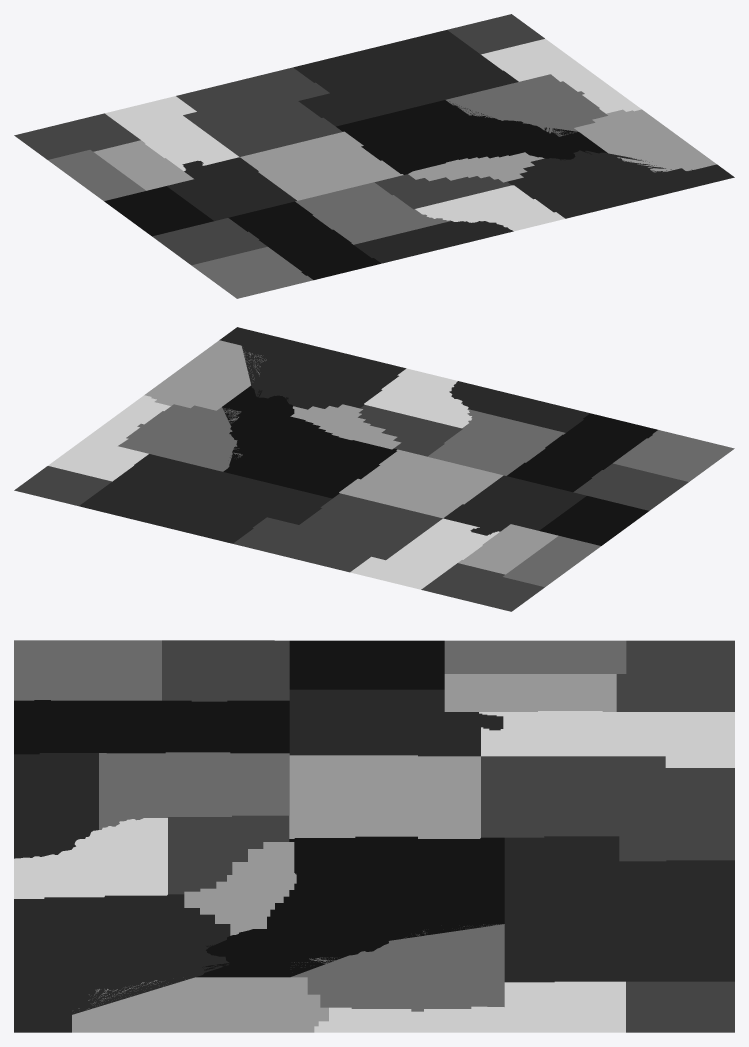
The model's file is Wyoming_Counties_2D.fbx.
The picture shows the model from 3 angles, top to bottom: view 1: azimuth 30°, elevation 25°; view 2: azimuth 150°, elevation 25°; view 3: azimuth 270°, elevation 25°; orthographic projection. The views are drawn at different scales.
Parts seen in each view (by area): view 1: WY_Sweetwater_County_2D, WY_Fremont_County_2D, WY_Carbon_County_2D, WY_Park_County_2D, WY_Natrona_County_2D, WY_Campbell_County_2D, WY_Sublette_County_2D, WY_Johnson_County_2D, WY_Teton_County_2D, WY_Converse_County_2D, WY_Albany_County_2D, WY_Lincoln_County_2D (+11 smaller); view 2: WY_Sweetwater_County_2D, WY_Fremont_County_2D, WY_Carbon_County_2D, WY_Park_County_2D, WY_Natrona_County_2D, WY_Campbell_County_2D, WY_Sublette_County_2D, WY_Johnson_County_2D, WY_Converse_County_2D, WY_Albany_County_2D, WY_Teton_County_2D, WY_Lincoln_County_2D (+11 smaller); view 3: WY_Sweetwater_County_2D, WY_Fremont_County_2D, WY_Carbon_County_2D, WY_Park_County_2D, WY_Natrona_County_2D, WY_Campbell_County_2D, WY_Sublette_County_2D, WY_Johnson_County_2D, WY_Converse_County_2D, WY_Albany_County_2D, WY_Teton_County_2D, WY_Lincoln_County_2D (+11 smaller).
Boxes of the visible parts, x1,y1,x2,y2 form: WY_Sweetwater_County_2D: (293,30,518,126); WY_Fremont_County_2D: (336,100,607,174); WY_Carbon_County_2D: (176,67,342,156); WY_Park_County_2D: (507,150,734,218); WY_Natrona_County_2D: (240,131,403,200); WY_Campbell_County_2D: (228,201,380,279); WY_Sublette_County_2D: (446,74,607,136); WY_Johnson_County_2D: (295,182,450,244); WY_Teton_County_2D: (574,109,716,172); WY_Converse_County_2D: (167,157,296,220); WY_Albany_County_2D: (105,96,239,171); WY_Lincoln_County_2D: (481,38,641,113); WY_Sweetwater_County_2D: (79,454,332,543); WY_Fremont_County_2D: (222,385,397,498); WY_Carbon_County_2D: (233,493,442,572); WY_Park_County_2D: (219,327,406,409); WY_Natrona_County_2D: (339,449,503,518); WY_Campbell_County_2D: (507,413,657,492); WY_Sublette_County_2D: (118,404,242,471); WY_Johnson_County_2D: (427,409,565,475); WY_Converse_County_2D: (443,475,586,535); WY_Albany_County_2D: (350,518,499,589); WY_Teton_County_2D: (144,340,266,410); WY_Lincoln_County_2D: (48,395,170,481); WY_Sweetwater_County_2D: (504,836,734,982); WY_Fremont_County_2D: (196,836,504,977); WY_Carbon_County_2D: (481,756,734,861); WY_Park_County_2D: (14,894,230,1032); WY_Natrona_County_2D: (289,755,480,838); WY_Campbell_County_2D: (14,700,289,754); WY_Sublette_County_2D: (291,924,504,1011); WY_Johnson_County_2D: (99,752,289,829); WY_Converse_County_2D: (289,689,503,756); WY_Albany_County_2D: (479,711,734,767); WY_Teton_County_2D: (72,977,328,1032); WY_Lincoln_County_2D: (314,981,625,1032).
Bounding box in the file's own units: 744 × 0 × 578.
